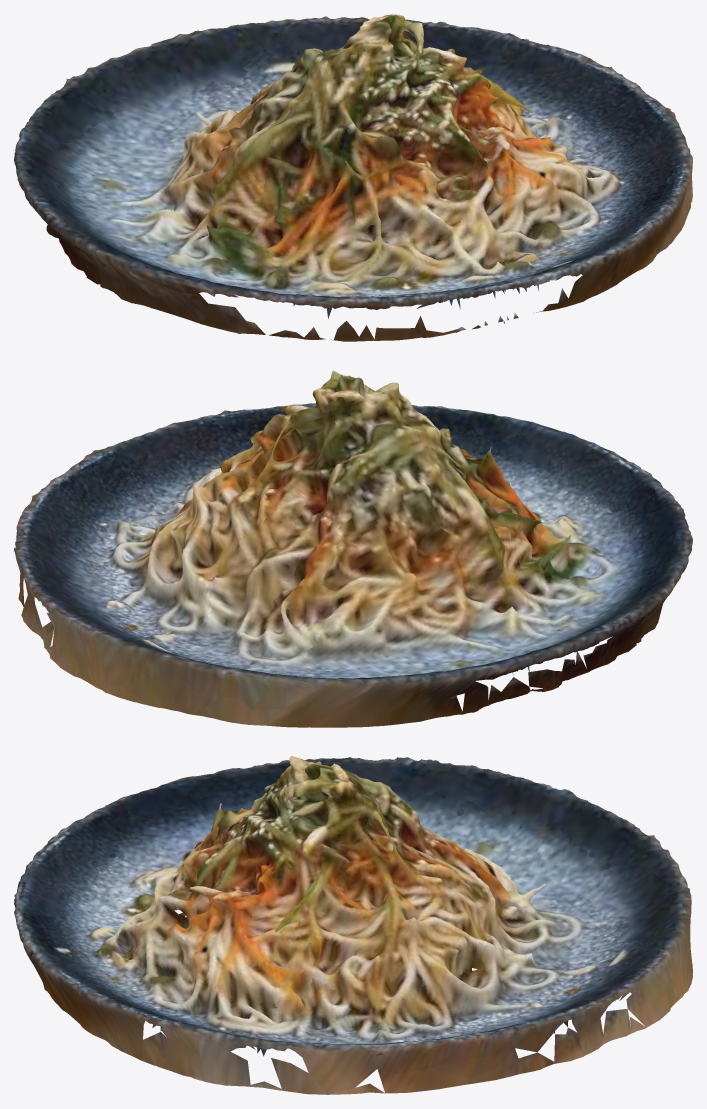
Rendered from noodles-gl.glb.
The picture shows the model from 3 angles, top to bottom: view 1: azimuth 30°, elevation 25°; view 2: azimuth 150°, elevation 25°; view 3: azimuth 270°, elevation 25°; orthographic projection.
Visible parts, largest first — view 1: mesh_main_0; view 2: mesh_main_0; view 3: mesh_main_0.
Part boxes in pixels (<box>): mesh_main_0: <box>14,14,692,341</box>; mesh_main_0: <box>14,370,692,727</box>; mesh_main_0: <box>14,756,692,1094</box>.
Size of the model in its own units: 0.2676 by 0.0861 by 0.2678.
1 material, 1 textured.
